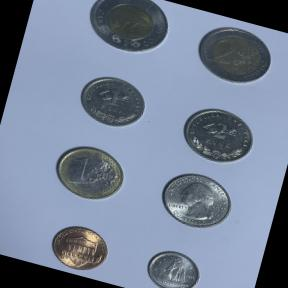coin: (186, 15, 283, 97), (150, 162, 244, 240), (75, 0, 181, 67), (44, 135, 134, 212), (173, 98, 264, 173), (40, 214, 117, 280), (138, 242, 208, 288)
